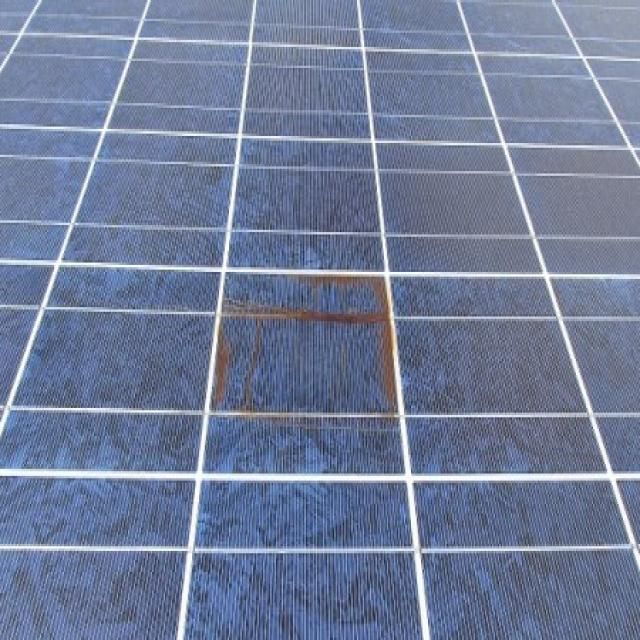electrical damage: (207, 267, 402, 417)
